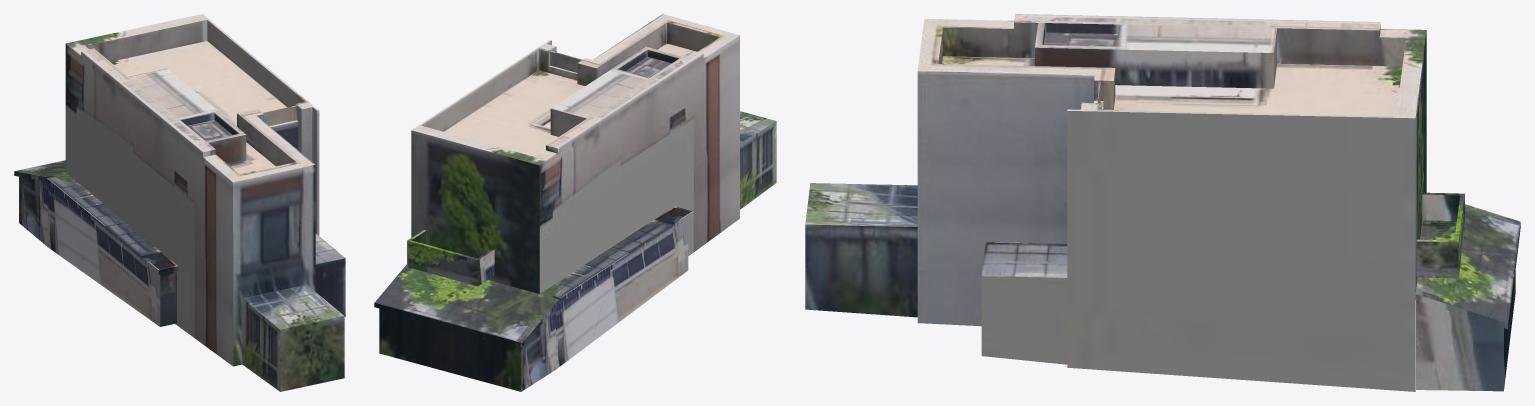
The picture shows the model from 3 angles, left to right: view 1: azimuth 30°, elevation 25°; view 2: azimuth 150°, elevation 25°; view 3: azimuth 270°, elevation 25°; orthographic projection. The views are drawn at different scales.
Visible parts, largest first — view 1: B285714033501062A0; view 2: B285714033501062A0; view 3: B285714033501062A0.
Boxes of the visible parts, box(x1,y1,x2,y2) form: B285714033501062A0: box(14, 14, 345, 391); B285714033501062A0: box(374, 14, 776, 391); B285714033501062A0: box(805, 14, 1520, 391).
Size of the model in its own units: 7.76 by 9.16 by 21.17.
Materials: 1 (1 with a texture image).
